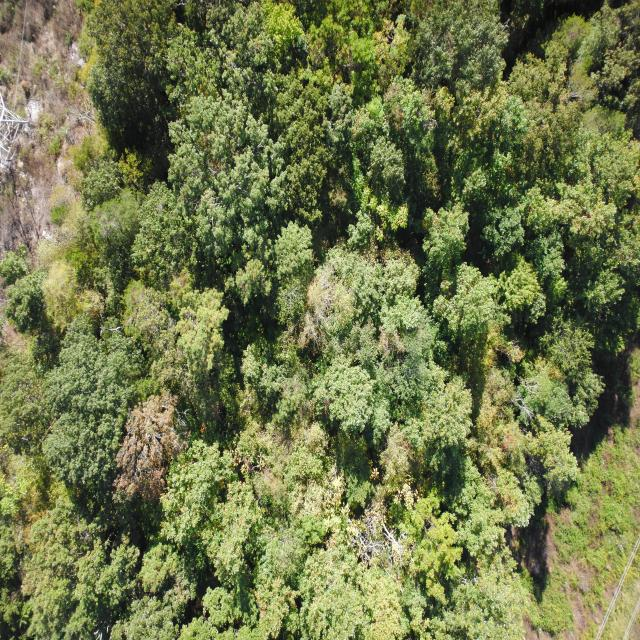Area of Interest: (0, 10, 630, 635)
